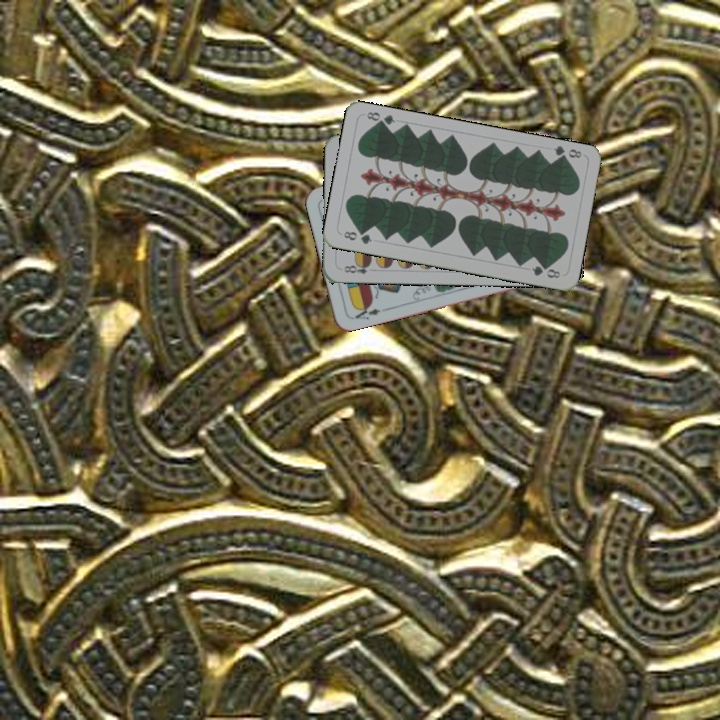E8: (340, 259, 378, 276)
EA: (348, 301, 383, 322)
G8: (549, 142, 584, 164), (339, 227, 374, 247)
